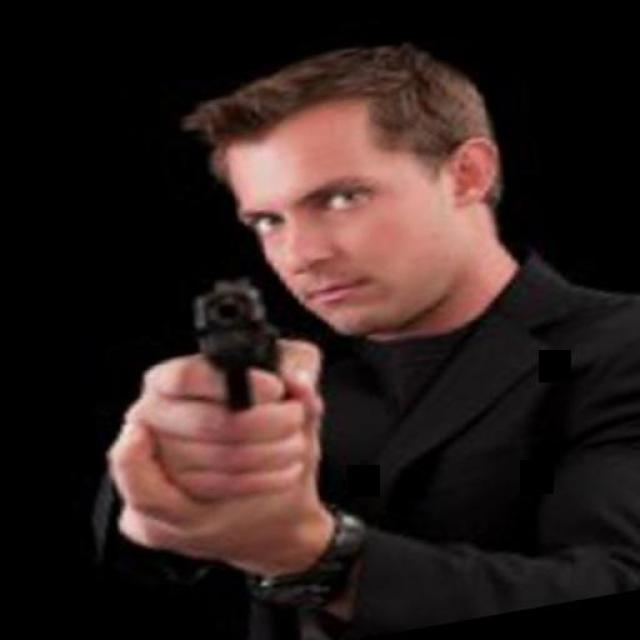gun: (181, 265, 295, 420)
